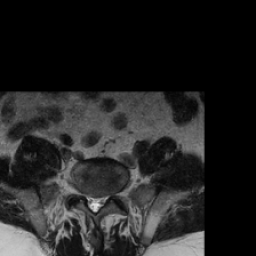CCS_normal: (92, 189, 98, 218)
LFS_severe_stenosis: (105, 185, 113, 204)
LLS_normal: (99, 190, 105, 213)
RFS_severe_stenosis: (80, 184, 86, 204)
RLS_normal: (86, 190, 92, 213)
